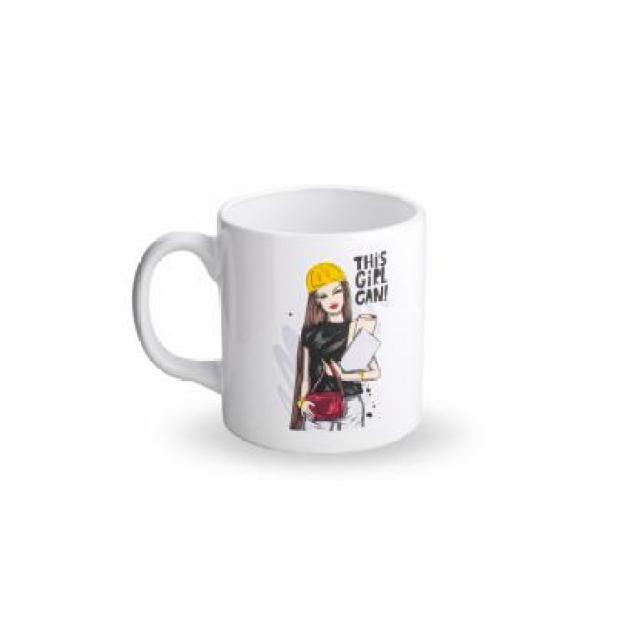taza: (128, 186, 426, 454)
